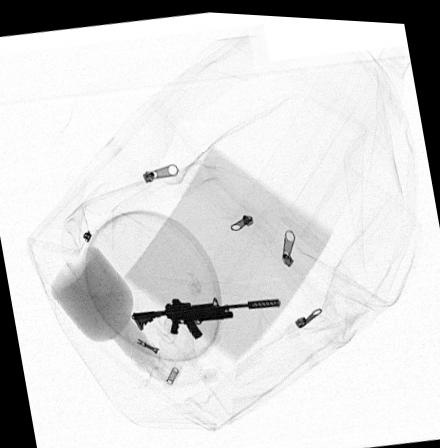Gun: (129, 293, 281, 336)
